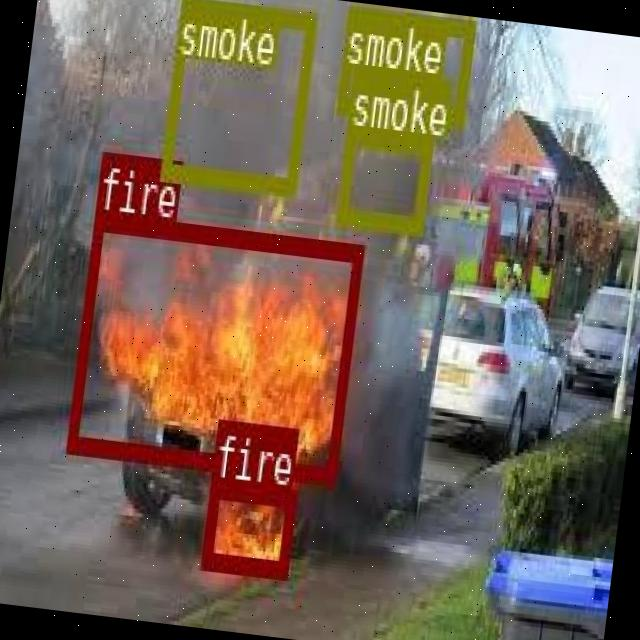fire: (66, 210, 362, 480), (200, 476, 294, 574)
smoke: (159, 0, 316, 193), (336, 3, 474, 126), (334, 127, 430, 230)
